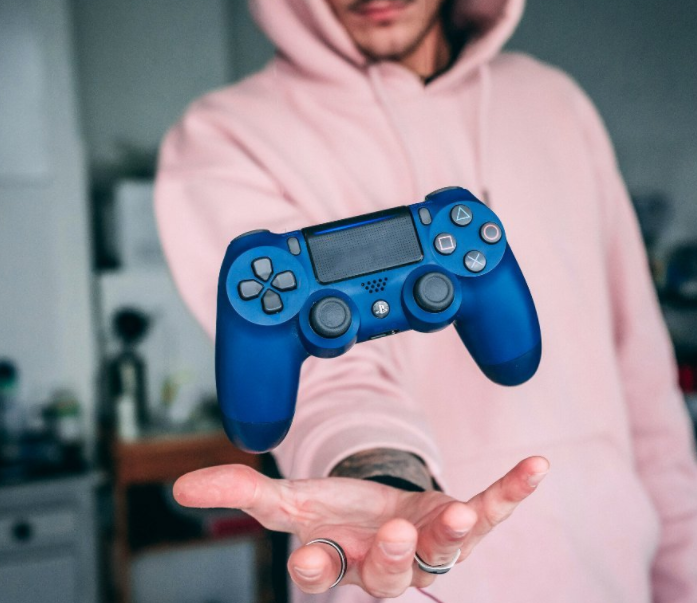gamingconsole: (217, 188, 542, 446)
